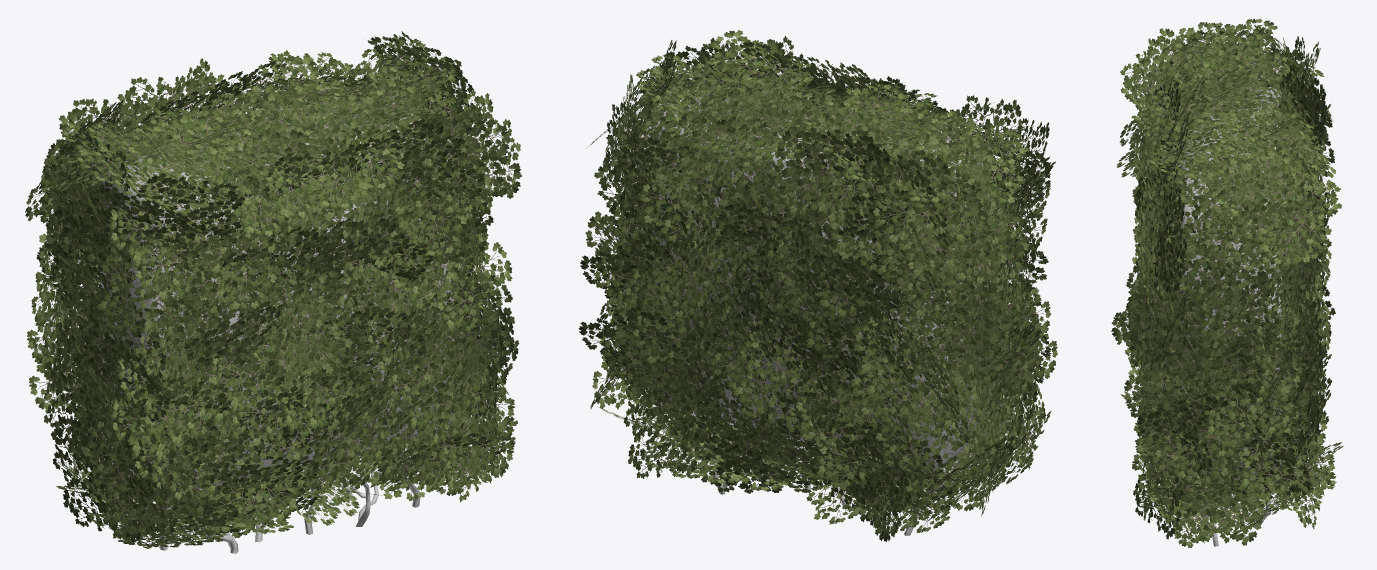
Rendered from Hedge.FBX.
The picture shows the model from 3 angles, left to right: view 1: azimuth 30°, elevation 25°; view 2: azimuth 150°, elevation 25°; view 3: azimuth 270°, elevation 25°; orthographic projection. The views are drawn at different scales.
Visible parts, largest first — view 1: Hedge_Leaves, Hedge_Base; view 2: Hedge_Leaves, Hedge_Base; view 3: Hedge_Leaves, Hedge_Base.
Boxes of the visible parts, x1,y1,x2,y2 form: Hedge_Leaves: (25, 31, 521, 548); Hedge_Base: (100, 94, 454, 553); Hedge_Leaves: (579, 30, 1057, 541); Hedge_Base: (652, 91, 987, 535); Hedge_Leaves: (1111, 18, 1343, 548); Hedge_Base: (1180, 87, 1281, 546).
Bounding box in the file's own units: 269 × 259 × 151.
